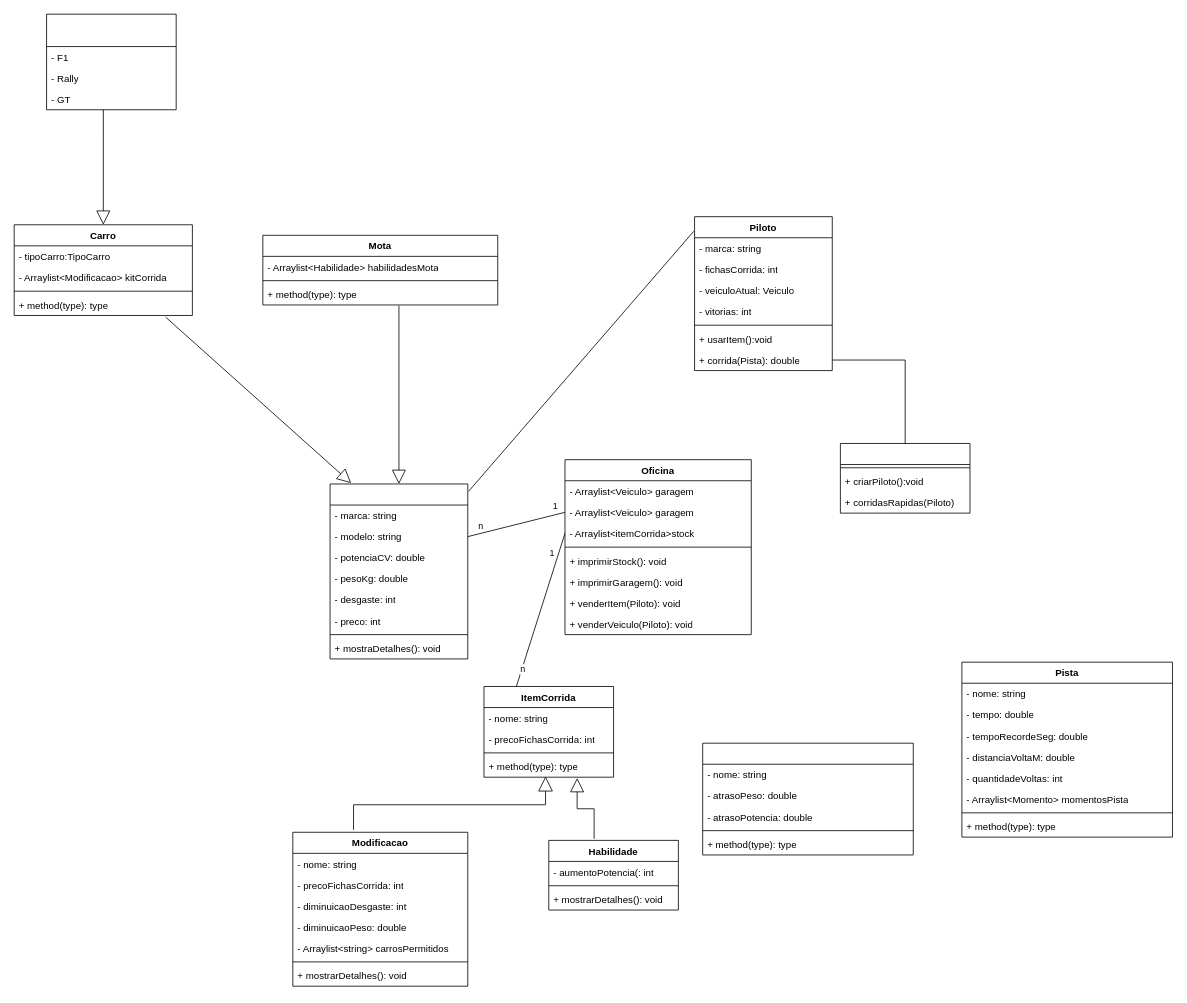
The diagram is 1187 pixels wide and 1003 high, and some of its shapes have lost their labels. The box of each missing label's shape, as (x1, y1, x2, y2) in pixels:
enumeracao TipoCarro: (46, 13, 176, 110)
Jogo: (840, 443, 970, 513)
Momento: (702, 742, 913, 855)
Veiculo: (329, 483, 468, 659)
